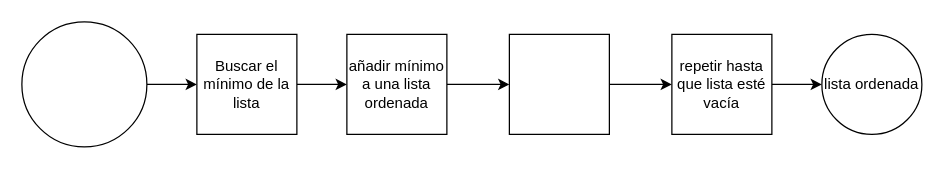
Image size: 944x169. Some labels were removed from this diagram. The shapes that lost their labels are listed below. From the top down, each one's box as (x1, y1, x2, y2) in pixels, then its label:
(21, 21, 147, 147): lista
(508, 33, 609, 134): eliminar el mínimo de lista
